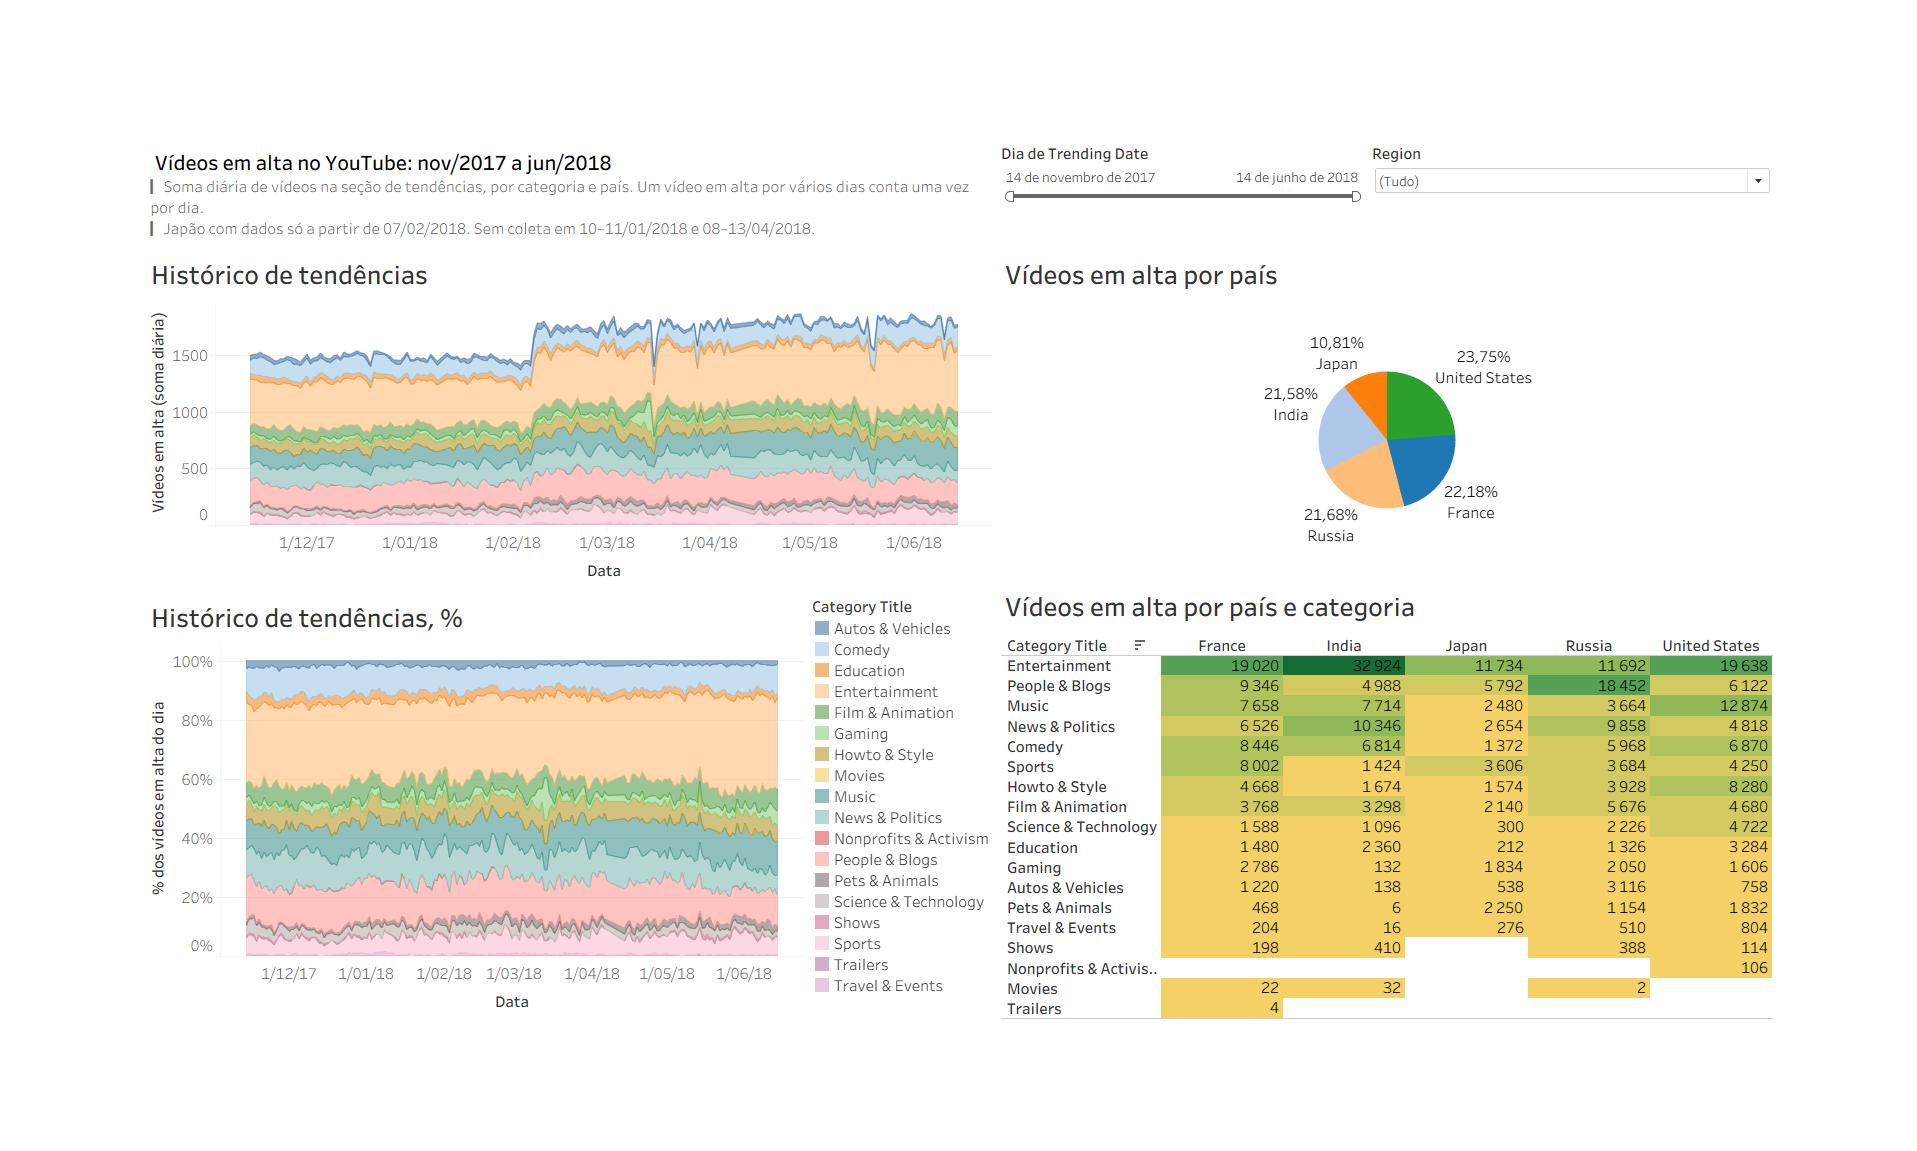

Layout of this report page (visuals, bound fields, positions):
{"tool":"tableau","page":{"name":"Dashboard de Apresentação","canvas":[1650,900],"ordinal":0},"visuals":[{"type":"text","box":[8,8,854,110]},{"type":"filter","title":"Histórico de tendências","param":"[federated.1e1xw8y1lyitf317whqkv1nfmea1].[tdy:trending_date:qk]","box":[862,8,371.5,110]},{"type":"filter","title":"Vídeos em alta por país e categoria","param":"[federated.1e1xw8y1lyitf317whqkv1nfmea1].[none:region:nk]","box":[1233.5,8,408.5,61]},{"type":"worksheet","title":"Histórico de tendências","mark":"Area","rows":["videos_count"],"cols":["trending_date"],"box":[8,118,854,343]},{"type":"worksheet","title":"Vídeos em alta por país","mark":"Pie","box":[862,118,780,332]},{"type":"worksheet","title":"Vídeos em alta por país e categoria","mark":"Square","rows":["category_title"],"cols":["region"],"box":[862,450,780,442]},{"type":"worksheet","title":"Histórico de tendências, %","mark":"Area","cols":["trending_date"],"box":[8,461,665,431]},{"type":"legend","title":"Histórico de tendências, %","param":"[federated.1e1xw8y1lyitf317whqkv1nfmea1].[none:category_title:nk]","box":[673,461,189,431]}]}

Visuals, with their boxes on the page's 1650x900 design canvas (x1, y1, x2, y2). These are canvas units, not pixel positions in the 1917x1151 screenshot, which may show the page scaled, cropped or inside an application window:
text: box(8, 8, 862, 118)
"Histórico de tendências" filter: box(862, 8, 1234, 118)
"Vídeos em alta por país e categoria" filter: box(1234, 8, 1642, 69)
"Histórico de tendências" worksheet (Area marks): box(8, 118, 862, 461)
"Vídeos em alta por país" worksheet (Pie marks): box(862, 118, 1642, 450)
"Vídeos em alta por país e categoria" worksheet (Square marks): box(862, 450, 1642, 892)
"Histórico de tendências, %" worksheet (Area marks): box(8, 461, 673, 892)
"Histórico de tendências, %" legend: box(673, 461, 862, 892)
